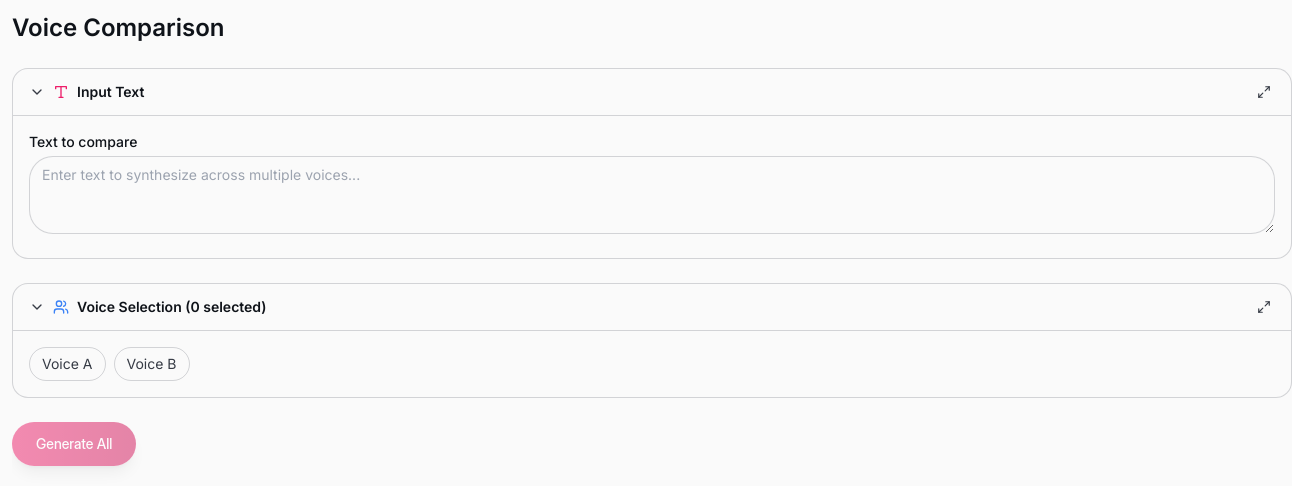
ComparisonPage › toggles voice selection on click
Click the button "Voice A" at (67, 364), box [29,347,106,381]
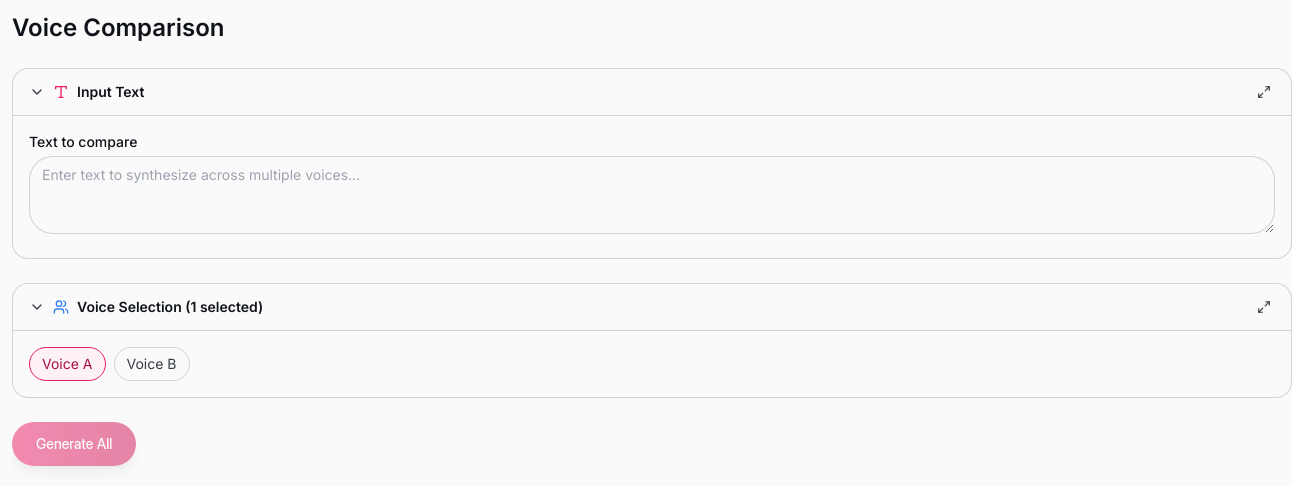
Expected: the heading "Voice Selection (1 selected)" is shown, [77,298,263,315]
